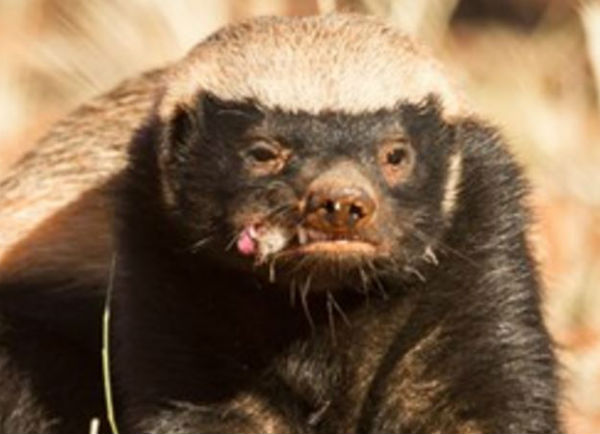badger: (5, 16, 558, 428)
